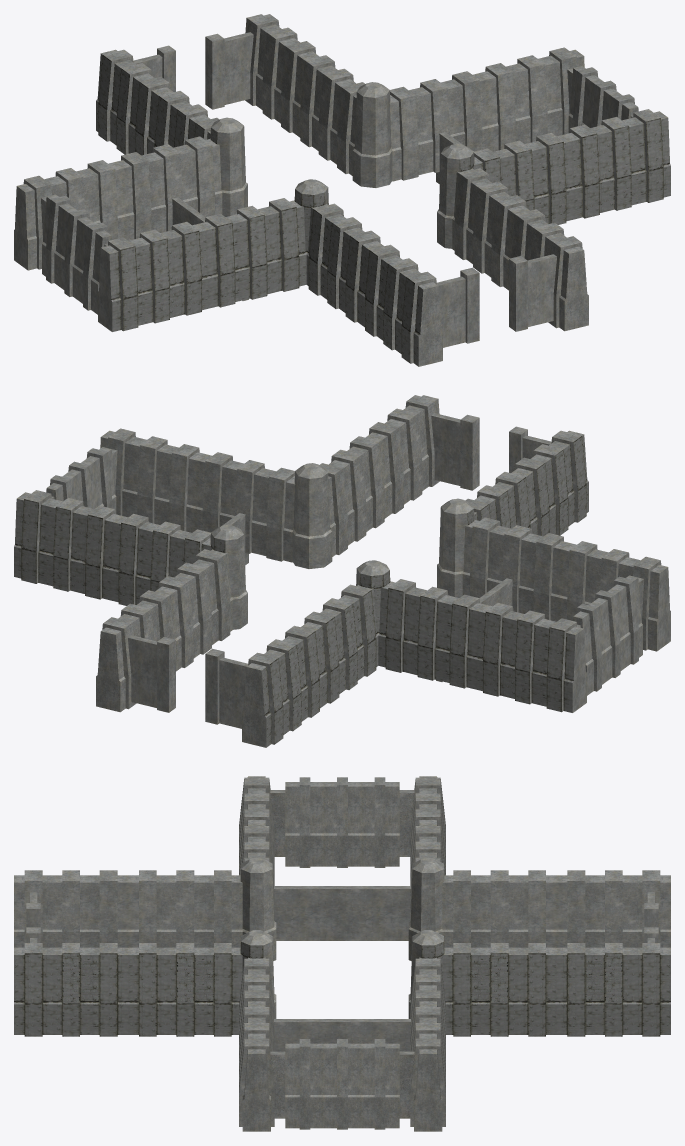
File: poi_all_impl_corral_64x64_s02_l0.fbx
3 views of the same model, one above another, from view 1: azimuth 30°, elevation 25°; view 2: azimuth 150°, elevation 25°; view 3: azimuth 270°, elevation 25° (orthographic).
Visible parts, largest first — view 1: mesh_node; view 2: mesh_node; view 3: mesh_node.
Part boxes in pixels (<box>): mesh_node: <box>14,14,670,366</box>; mesh_node: <box>14,395,670,747</box>; mesh_node: <box>14,776,670,1131</box>.
Bounding box in the file's own units: 46 × 8.4 × 46.
